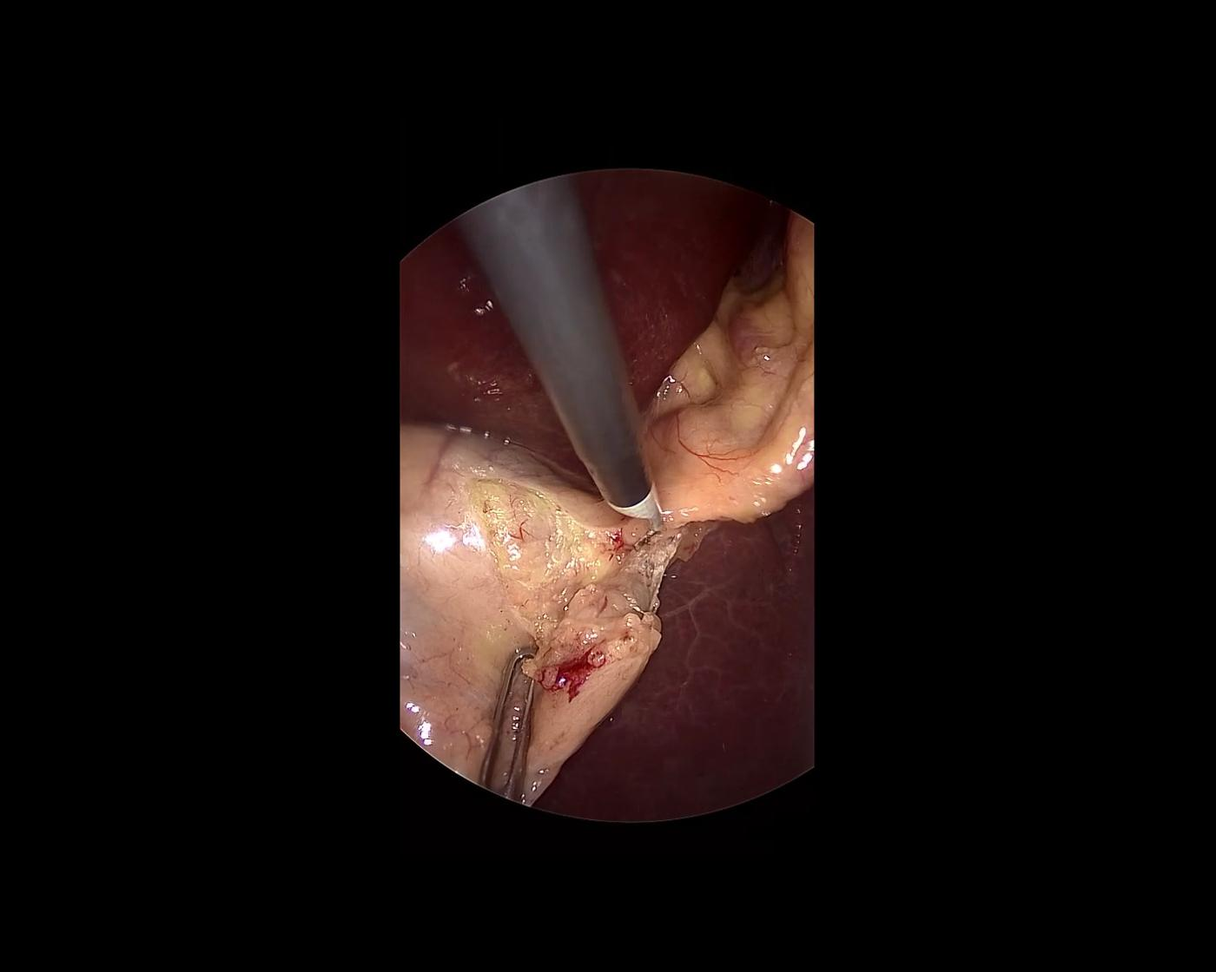Cautery: (450, 170, 666, 547)
Forceps: (475, 640, 540, 799)
Gallbladder: (401, 422, 663, 802)
Liver: (323, 45, 793, 535), (529, 487, 816, 822)
